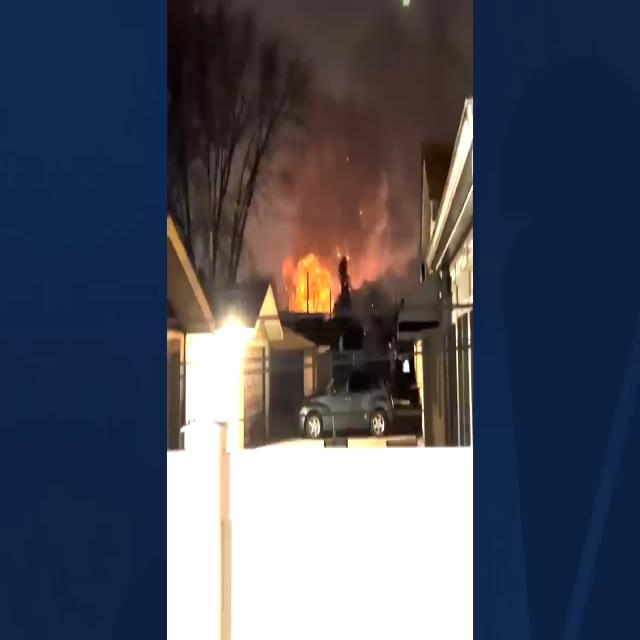fire: (278, 242, 337, 312)
